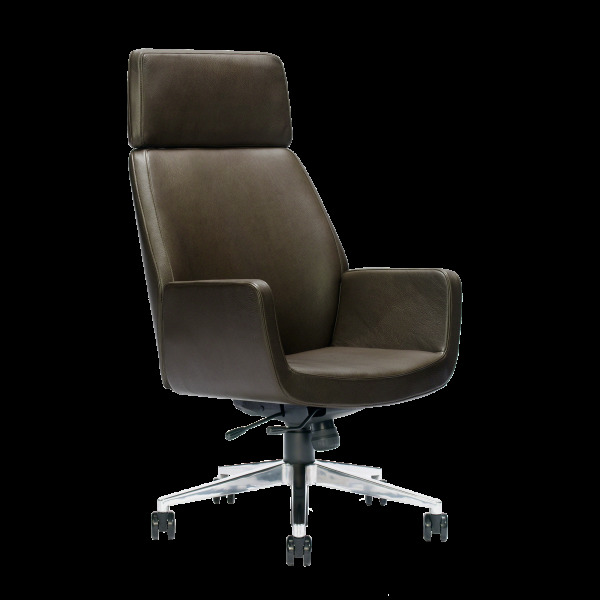chairs: (116, 46, 465, 569)
